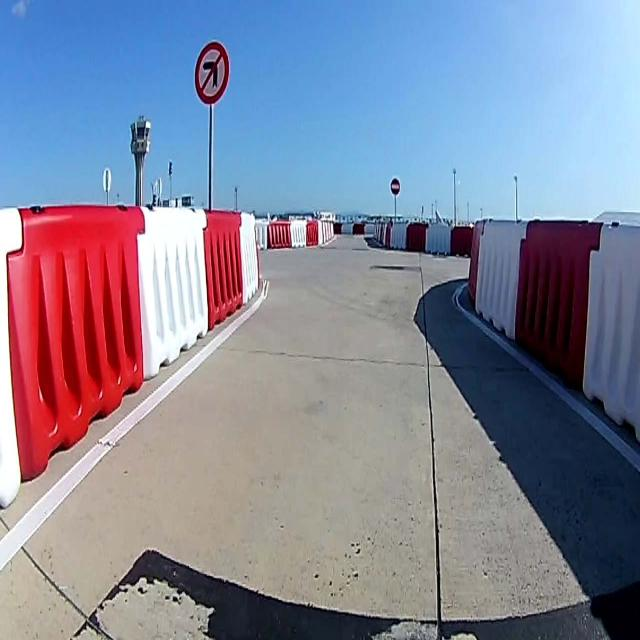soladonulmez: (195, 42, 229, 104)
